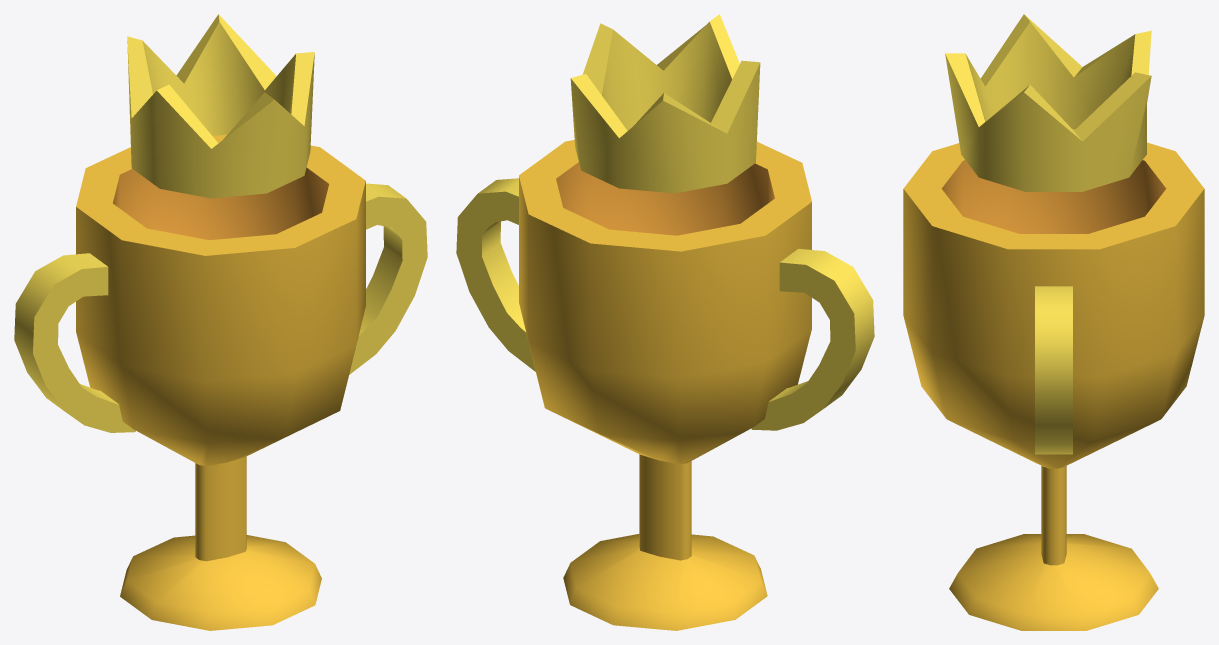
File: Cup.fbx
3 views of the same model, side by side, from view 1: azimuth 30°, elevation 25°; view 2: azimuth 150°, elevation 25°; view 3: azimuth 270°, elevation 25° (orthographic).
Parts seen in each view (by area): view 1: Cup, Crown, CupHolder; view 2: Cup, Crown, CupHolder; view 3: Cup, Crown, CupHolder.
Part boxes in pixels (<box>): Cup: <box>76,134,365,630</box>; Crown: <box>127,14,314,198</box>; CupHolder: <box>14,183,427,432</box>; Cup: <box>519,140,811,630</box>; Crown: <box>570,14,760,193</box>; CupHolder: <box>456,178,874,430</box>; Cup: <box>903,129,1204,630</box>; Crown: <box>945,14,1151,191</box>; CupHolder: <box>1035,286,1072,454</box>.
Bounding box in the file's own units: 308 × 393 × 200.
